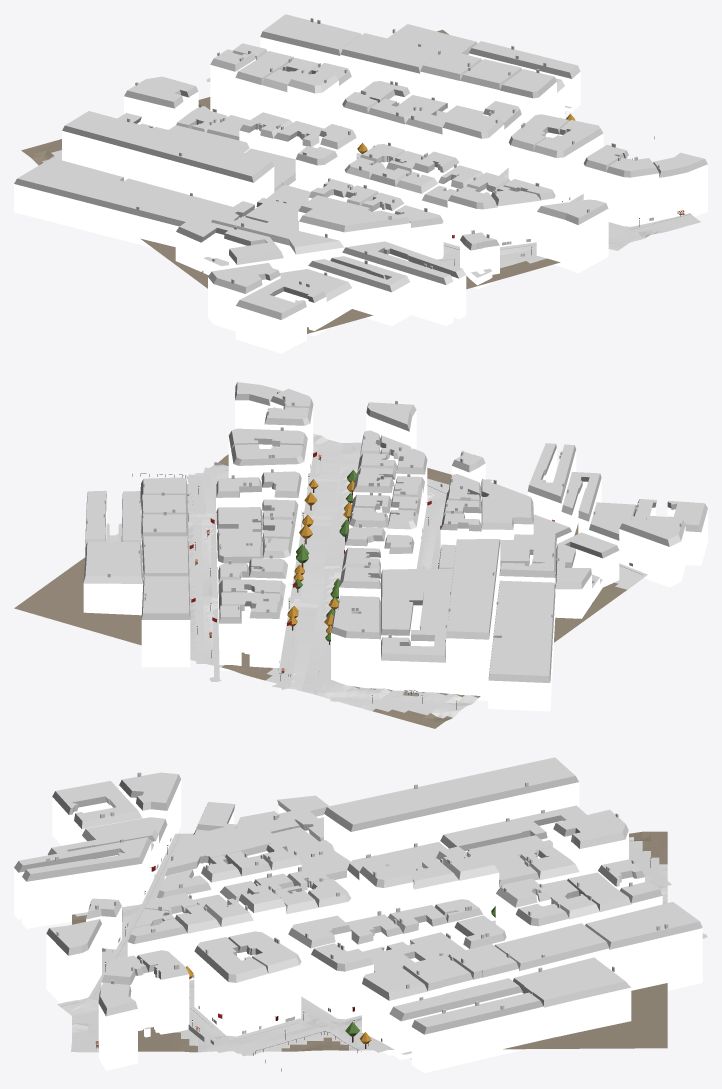
The model's file is zone_D3.glb.
The picture shows the model from 3 angles, top to bottom: view 1: azimuth 30°, elevation 25°; view 2: azimuth 150°, elevation 25°; view 3: azimuth 270°, elevation 25°; orthographic projection. The views are drawn at different scales.
Parts seen in each view (by area): view 1: zone_D3_batiments, zone_D3_terrain, zone_D3_sol_NOCOL; view 2: zone_D3_batiments, zone_D3_sol_NOCOL, zone_D3_terrain, zone_D3_decor_NOCOL; view 3: zone_D3_batiments, zone_D3_terrain, zone_D3_sol_NOCOL, zone_D3_decor_NOCOL.
Part boxes in pixels (x1=…): zone_D3_batiments: x1=14, y1=14, x2=707, y2=353; zone_D3_terrain: x1=21, y1=29, x2=684, y2=333; zone_D3_sol_NOCOL: x1=60, y1=78, x2=700, y2=267; zone_D3_batiments: x1=83, y1=382, x2=707, y2=711; zone_D3_sol_NOCOL: x1=106, y1=436, x2=645, y2=709; zone_D3_terrain: x1=14, y1=434, x2=647, y2=728; zone_D3_decor_NOCOL: x1=132, y1=470, x2=457, y2=709; zone_D3_batiments: x1=14, y1=757, x2=702, y2=1072; zone_D3_terrain: x1=72, y1=831, x2=667, y2=1052; zone_D3_sol_NOCOL: x1=57, y1=834, x2=707, y2=1059; zone_D3_decor_NOCOL: x1=105, y1=845, x2=651, y2=1071.
Bounding box in the file's own units: 252 × 35.07 × 248.
